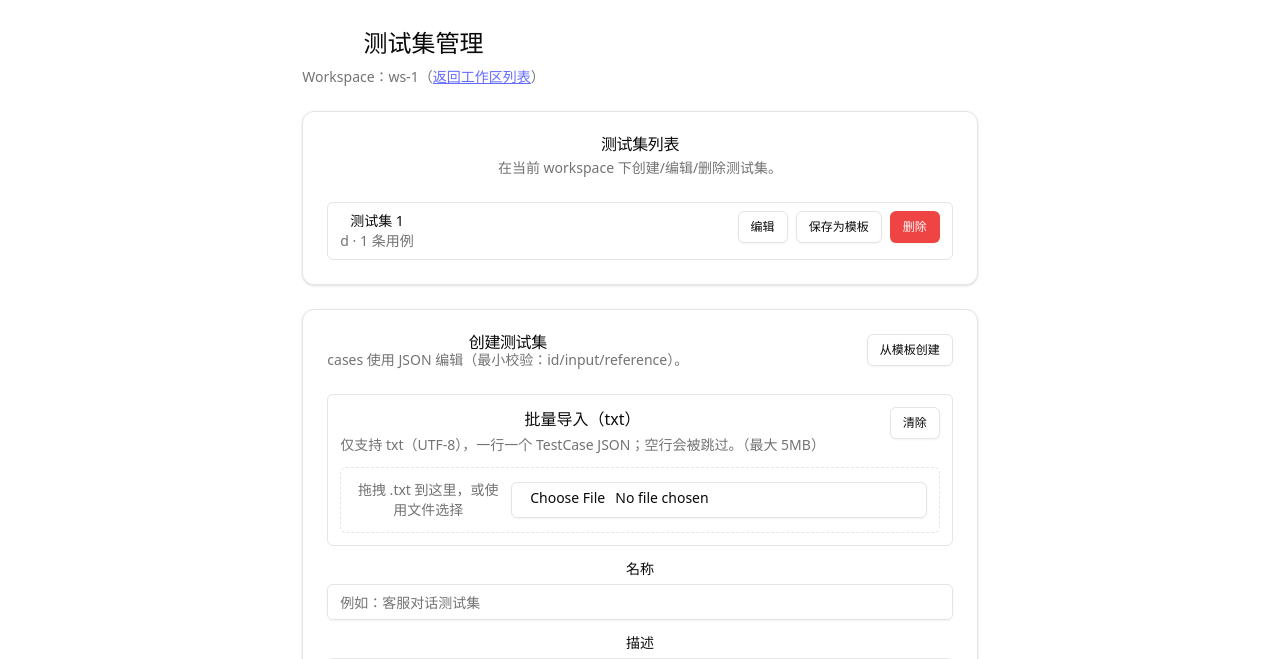
Test: TestSetsView templates › 保存为模板应提交请求并显示成功提示
The image size is (1280, 659).
Click the button "保存为模板" at (839, 227), box [796, 211, 882, 243]
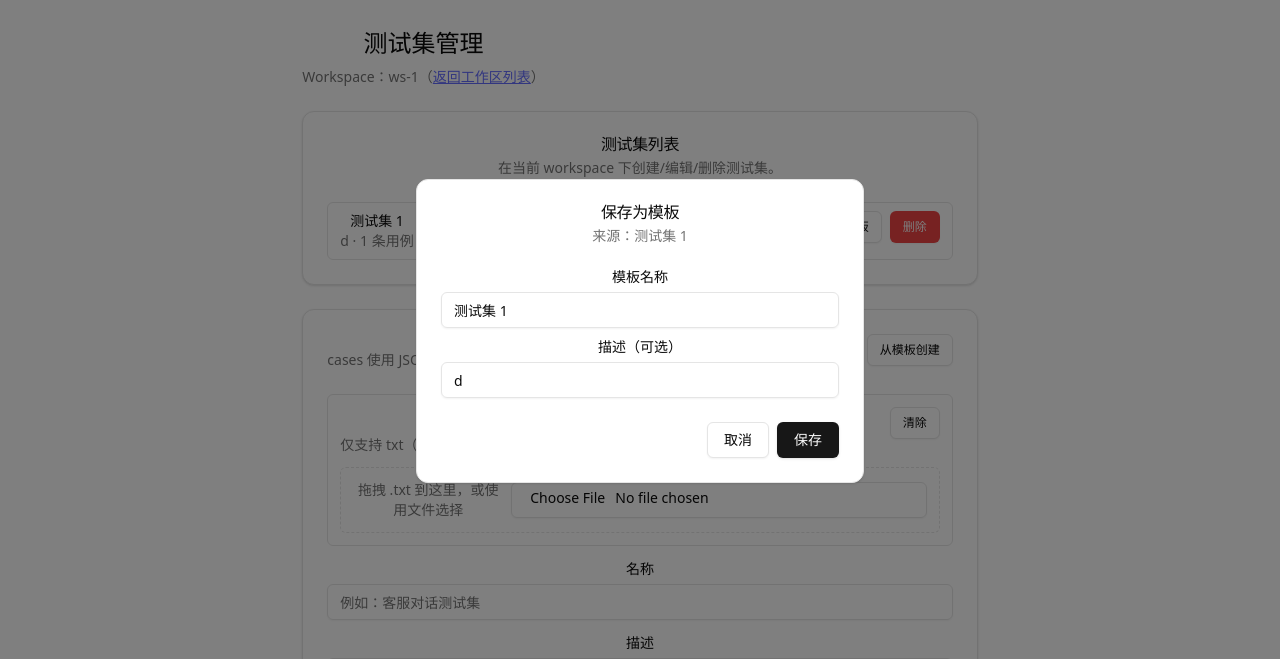
Replace the text in the field labelled "模板名称" with "新模板" at (640, 310), box [441, 292, 839, 328]
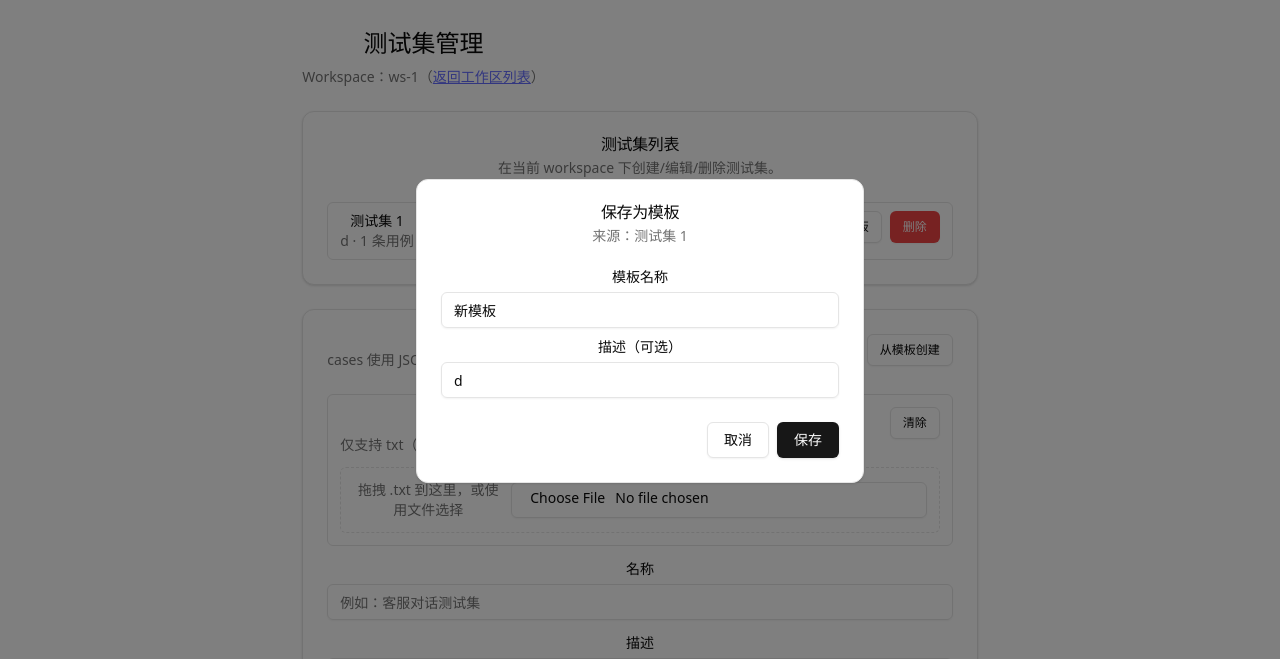
Click the button "保存" at (808, 440), box [777, 422, 839, 458]
(page scrolled)
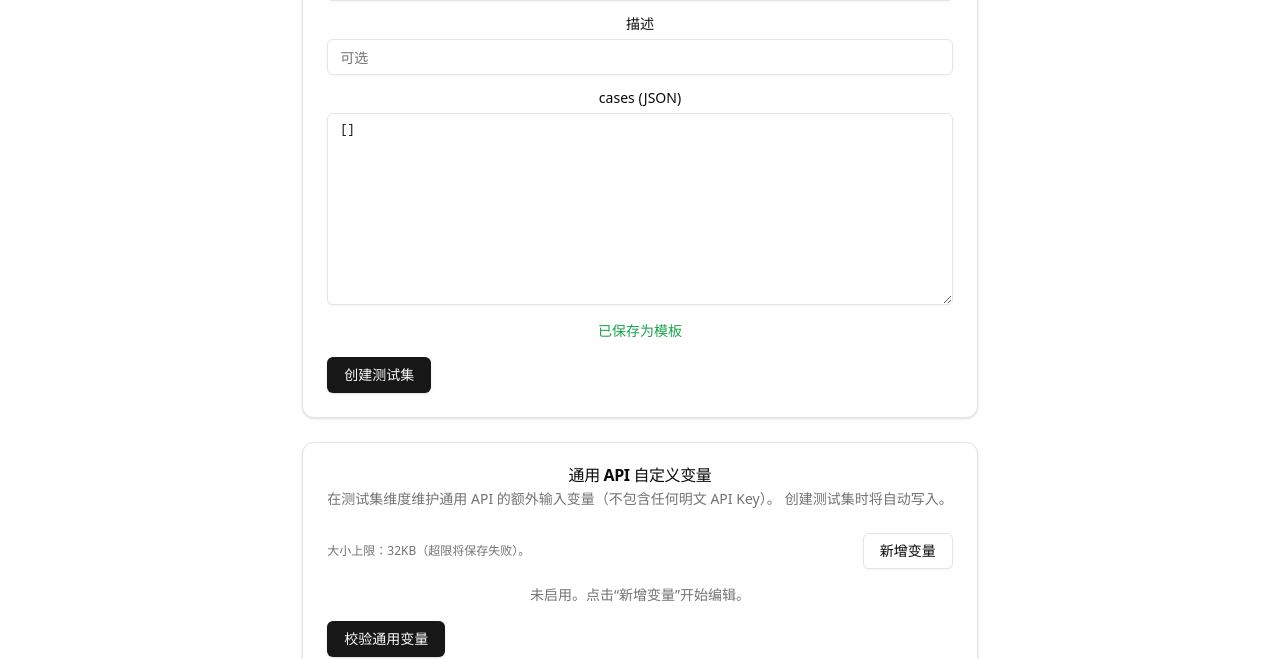
Now the text "已保存为模板" is shown, box [598, 321, 682, 340]
